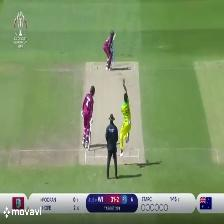batsman: (100, 28, 125, 76)
